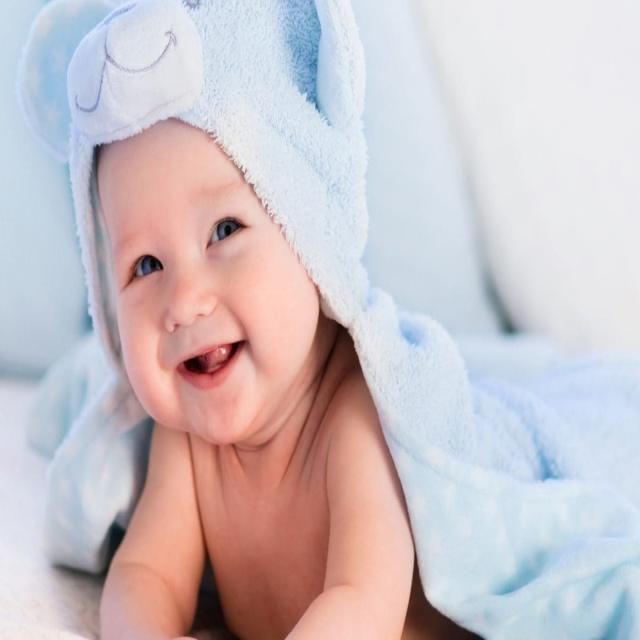non-dog: (20, 4, 640, 640)
